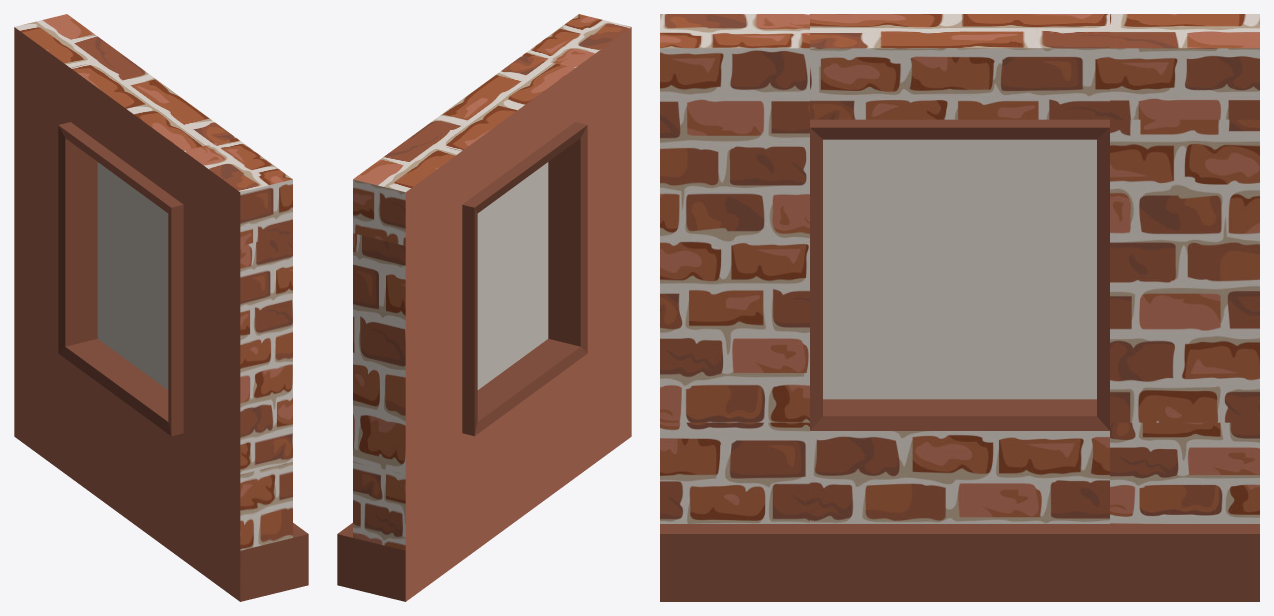
The model's file is pencere.fbx.
3 views of the same model, side by side, from view 1: azimuth 30°, elevation 25°; view 2: azimuth 150°, elevation 25°; view 3: azimuth 270°, elevation 25° (orthographic). The views are drawn at different scales.
Parts seen in each view (by area): view 1: pencere; view 2: pencere; view 3: pencere.
Part boxes in pixels (box(x1,y1,x2,y2)): pencere: box(14, 14, 308, 601); pencere: box(337, 14, 631, 601); pencere: box(660, 14, 1259, 601).
Bounding box in the file's own units: 82.71 × 400 × 400.
1 material, 1 textured.
